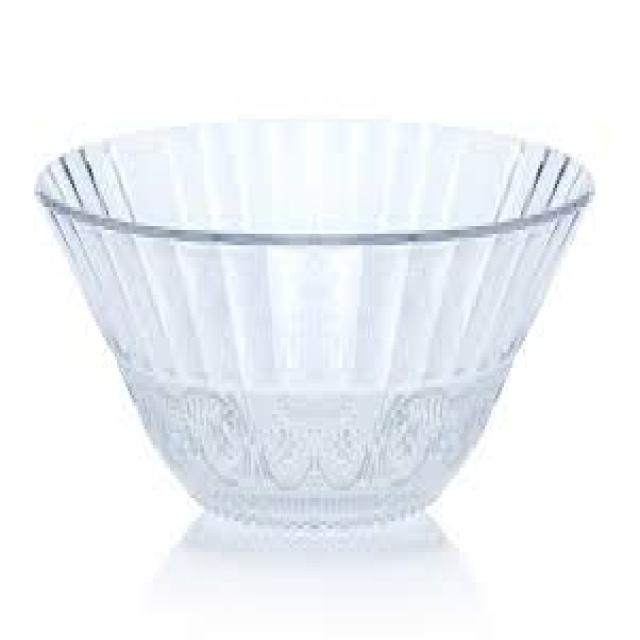Glass: (36, 117, 598, 546)
